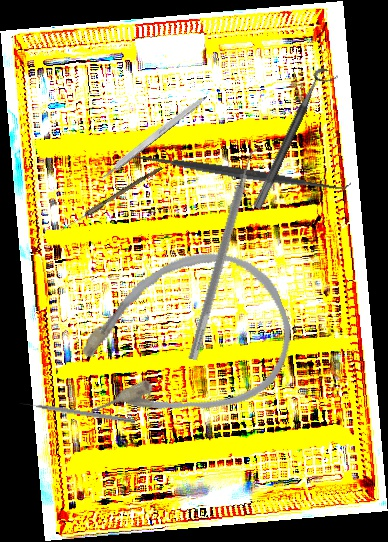Cannula: (51, 229, 310, 454)
Fixation Ring: (252, 65, 339, 216)
Hook Surgical: (18, 399, 136, 425)
Scalpel Handle: (98, 92, 209, 181)
Spatula Surgical: (187, 142, 266, 364), (123, 143, 352, 203)
Surgical Spoon: (59, 163, 163, 235)
